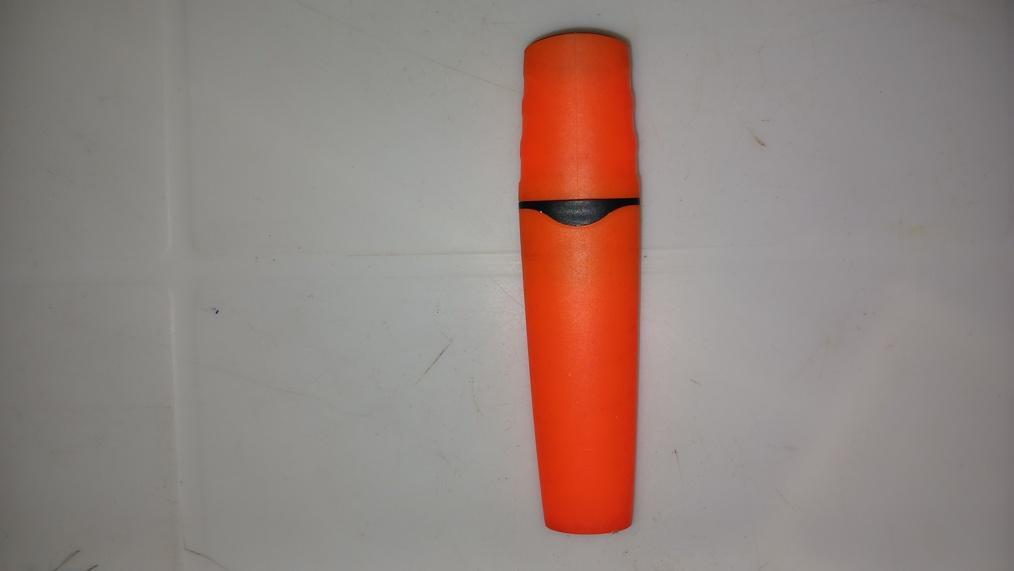Highlighter: (520, 29, 639, 542)
